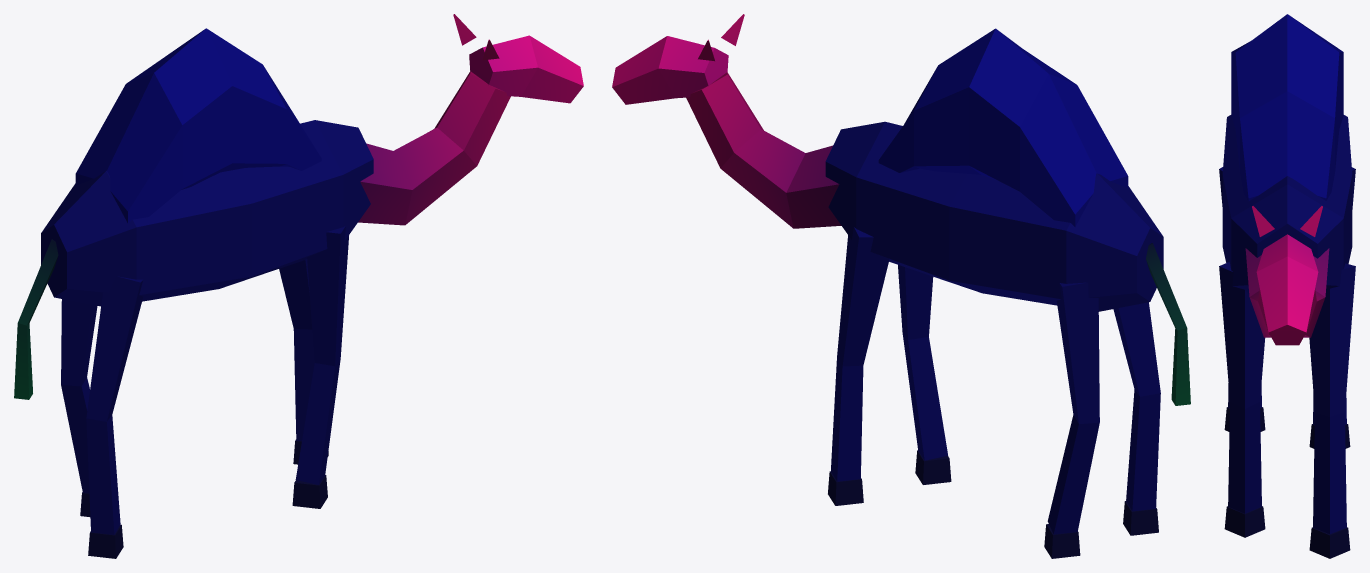
The model's file is ns-camel-b.glb.
The picture shows the model from 3 angles, left to right: view 1: azimuth 30°, elevation 25°; view 2: azimuth 150°, elevation 25°; view 3: azimuth 270°, elevation 25°; orthographic projection. The views are drawn at different scales.
Visible parts, largest first — view 1: Sculpted silhouette, Sculpted silhouette.001, Tapered form.008, Tapered form.006, Tapered form.002, Tapered form.009, Tapered form.004, Tapered form, Tapered form.012, Tapered form.003, Tapered form.007; view 2: Sculpted silhouette, Sculpted silhouette.001, Tapered form.008, Tapered form.004, Tapered form, Tapered form.006, Tapered form.002, Tapered form.009, Tapered form.012, Tapered form.003, Tapered form.005, Tapered form.007 (+1 smaller); view 3: Sculpted silhouette.001, Sculpted silhouette, Tapered form, Tapered form.002, Tapered form.009, Tapered form.008, Tapered form.001, Tapered form.003, Tapered form.010, Tapered form.011, Tapered form.005, Tapered form.007 (+1 smaller).
Part boxes in pixels (bbox=[...]): Sculpted silhouette: bbox=[41, 120, 373, 306]; Sculpted silhouette.001: bbox=[75, 28, 321, 223]; Tapered form.008: bbox=[358, 71, 510, 225]; Tapered form.006: bbox=[86, 276, 143, 534]; Tapered form.002: bbox=[295, 225, 348, 484]; Tapered form.009: bbox=[469, 35, 583, 103]; Tapered form.004: bbox=[61, 299, 97, 493]; Tapered form: bbox=[279, 259, 314, 441]; Tapered form.012: bbox=[14, 239, 58, 399]; Tapered form.003: bbox=[292, 475, 327, 508]; Tapered form.007: bbox=[88, 524, 123, 558]; Sculpted silhouette: bbox=[825, 121, 1163, 311]; Sculpted silhouette.001: bbox=[878, 28, 1128, 226]; Tapered form.008: bbox=[686, 72, 841, 228]; Tapered form.004: bbox=[1047, 282, 1099, 534]; Tapered form: bbox=[831, 227, 889, 481]; Tapered form.006: bbox=[1113, 302, 1160, 511]; Tapered form.002: bbox=[898, 265, 947, 460]; Tapered form.009: bbox=[612, 36, 728, 104]; Tapered form.012: bbox=[1146, 243, 1190, 405]; Tapered form.003: bbox=[915, 450, 951, 484]; Tapered form.005: bbox=[1044, 524, 1080, 558]; Tapered form.007: bbox=[1123, 501, 1158, 535]; Sculpted silhouette.001: bbox=[1231, 14, 1343, 201]; Sculpted silhouette: bbox=[1222, 115, 1352, 293]; Tapered form: bbox=[1309, 263, 1355, 533]; Tapered form.002: bbox=[1219, 262, 1265, 513]; Tapered form.009: bbox=[1256, 234, 1318, 345]; Tapered form.008: bbox=[1245, 248, 1329, 337]; Tapered form.001: bbox=[1309, 527, 1350, 558]; Tapered form.003: bbox=[1224, 506, 1265, 537]; Tapered form.010: bbox=[1252, 206, 1274, 236]; Tapered form.011: bbox=[1300, 206, 1322, 236]; Tapered form.005: bbox=[1309, 424, 1350, 448]; Tapered form.007: bbox=[1224, 407, 1265, 431].
Size of the model in its own units: 1.2 by 0.966 by 0.2521.
